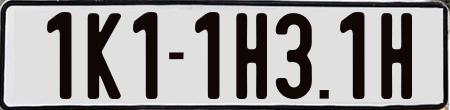1: (194, 11, 225, 101), (338, 12, 367, 102), (46, 12, 73, 101), (131, 11, 158, 99)
3: (275, 13, 315, 99)
H: (234, 10, 268, 99), (379, 10, 412, 97)
K: (88, 12, 125, 99)
